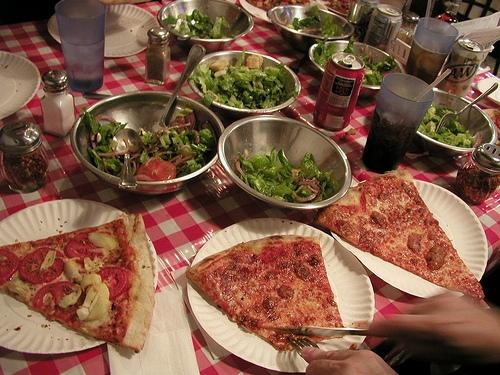tomato: (19, 247, 64, 284), (64, 232, 102, 264), (94, 266, 128, 300), (138, 160, 176, 180), (0, 250, 20, 286), (53, 306, 78, 324)
